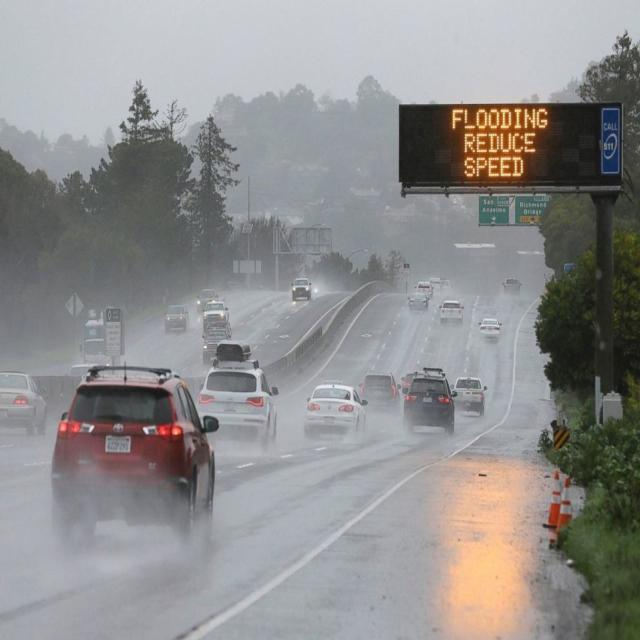bus: (80, 324, 120, 368)
car: (51, 372, 220, 558), (196, 366, 278, 440), (404, 370, 456, 434), (304, 385, 364, 438), (0, 371, 48, 434), (359, 373, 399, 416), (454, 376, 486, 416), (200, 328, 228, 354), (163, 304, 187, 333), (438, 299, 464, 323), (288, 275, 312, 301), (478, 316, 502, 341), (204, 302, 228, 326), (194, 289, 218, 309), (407, 293, 429, 311), (500, 277, 522, 295), (414, 281, 434, 297)
